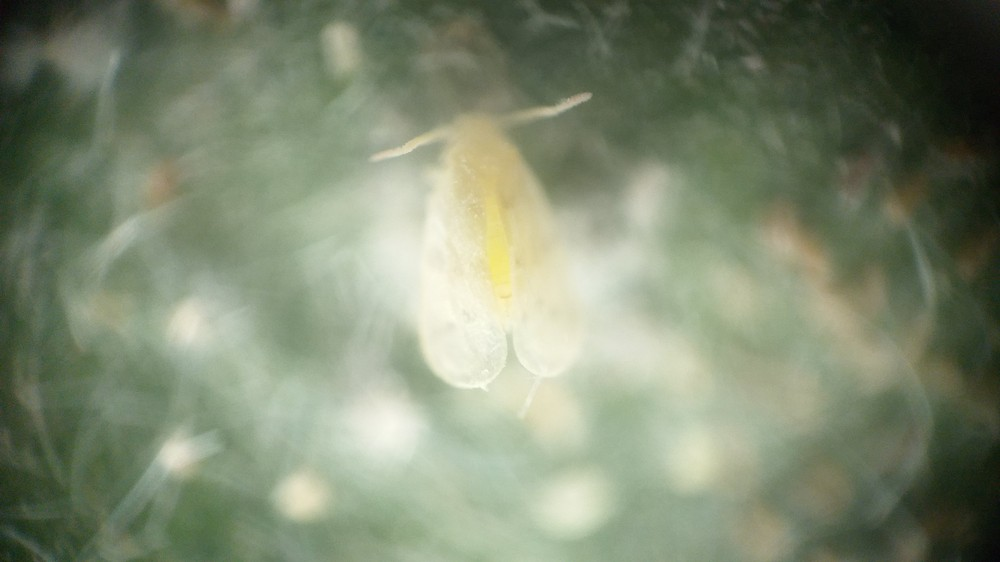Mosca Blanca: (346, 85, 650, 395)
